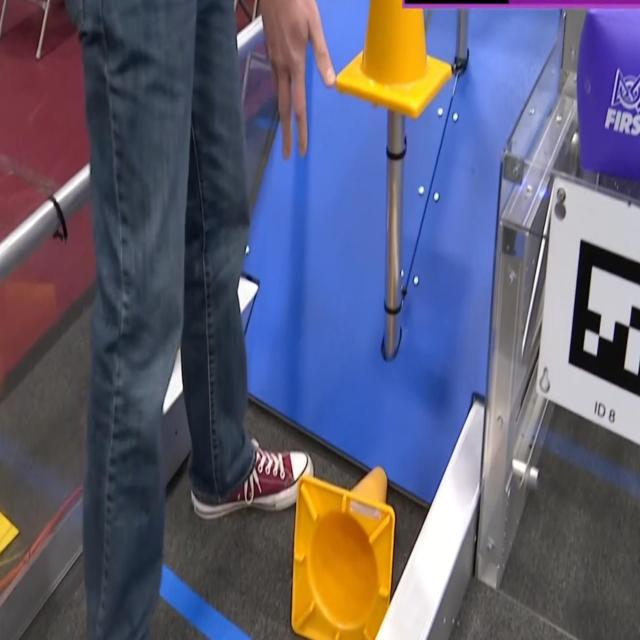frc_cone: (285, 452, 402, 640), (334, 0, 456, 126)
frc_cube: (577, 0, 640, 188)
